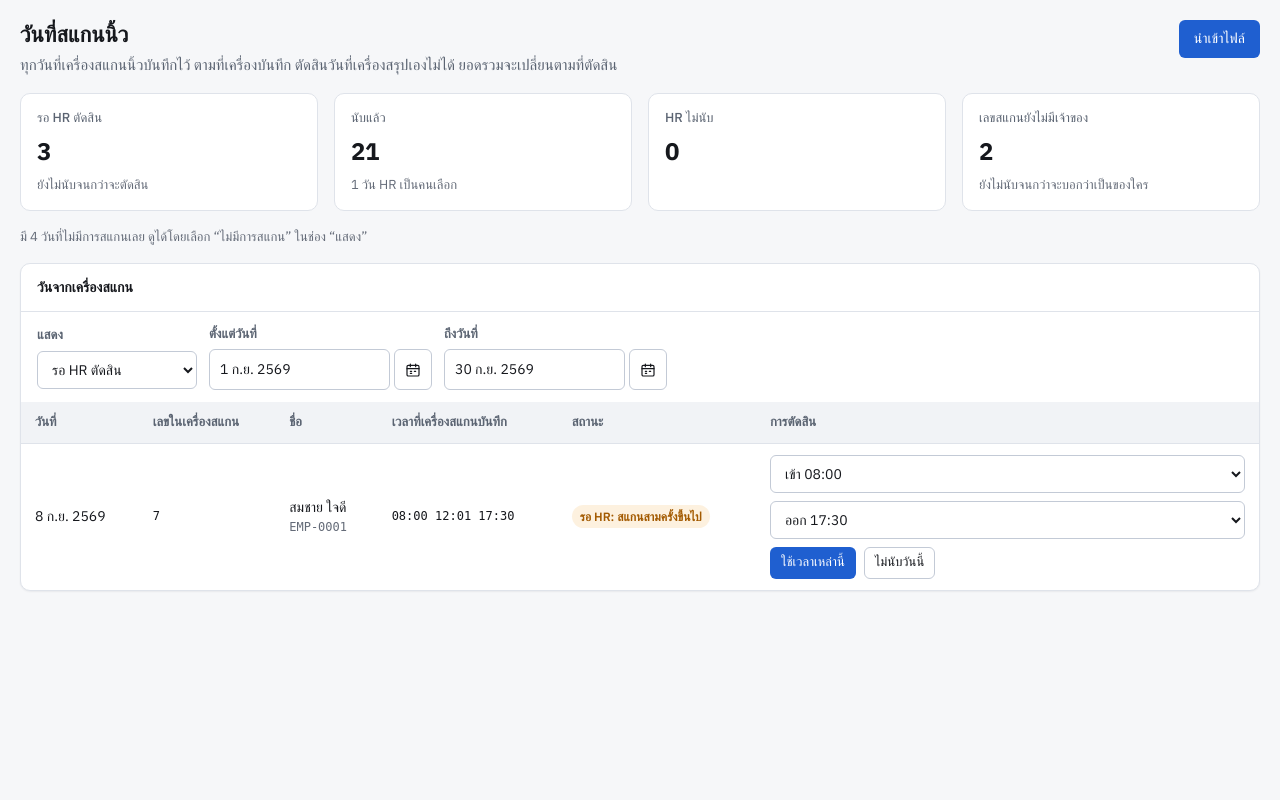
Scenario: Reviewing the scanner’s days (CW-061) › a refusal from the server, in the language of the screen (CW-096) › says in Thai that payroll has used the day
The image size is (1280, 800).
Check: the text "08:00 12:01 17:30" is shown, box [378,443,558,590]
Click the button "ใช้เวลาเหล่านี้": [813, 562] box [770,546,856,578]
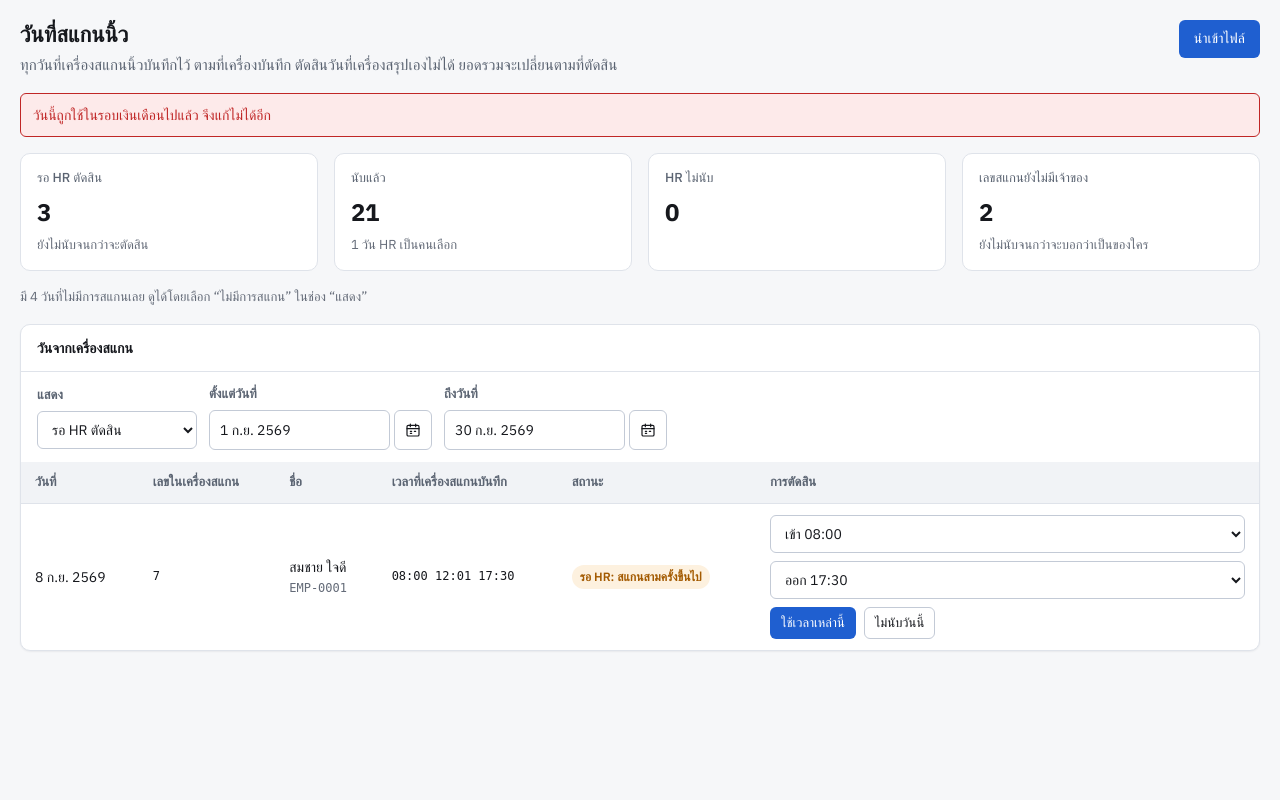
Check: the text "วันนี้ถูกใช้ในรอบเงินเดือนไปแล้ว จึงแก้ไม่ได้อีก" is shown, box [20,93,1260,137]
